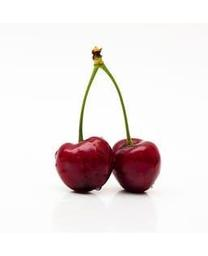cherry: (54, 136, 115, 194), (110, 138, 161, 193)
